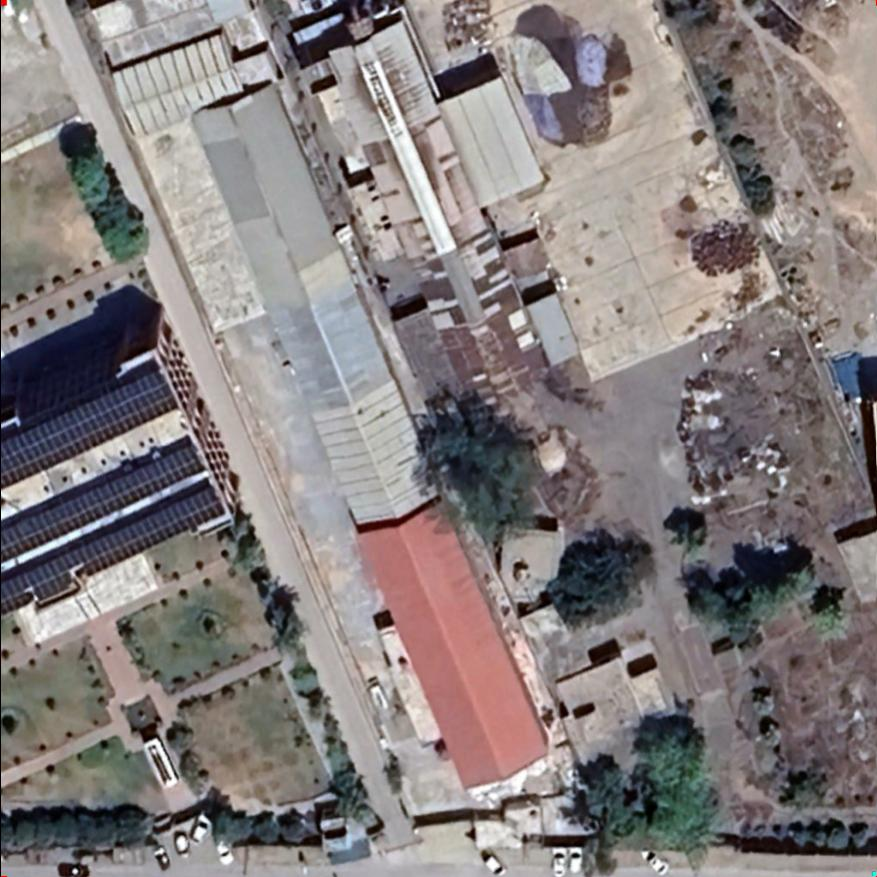Solarpanel: (0, 470, 235, 628), (0, 425, 217, 572), (0, 357, 183, 498)
